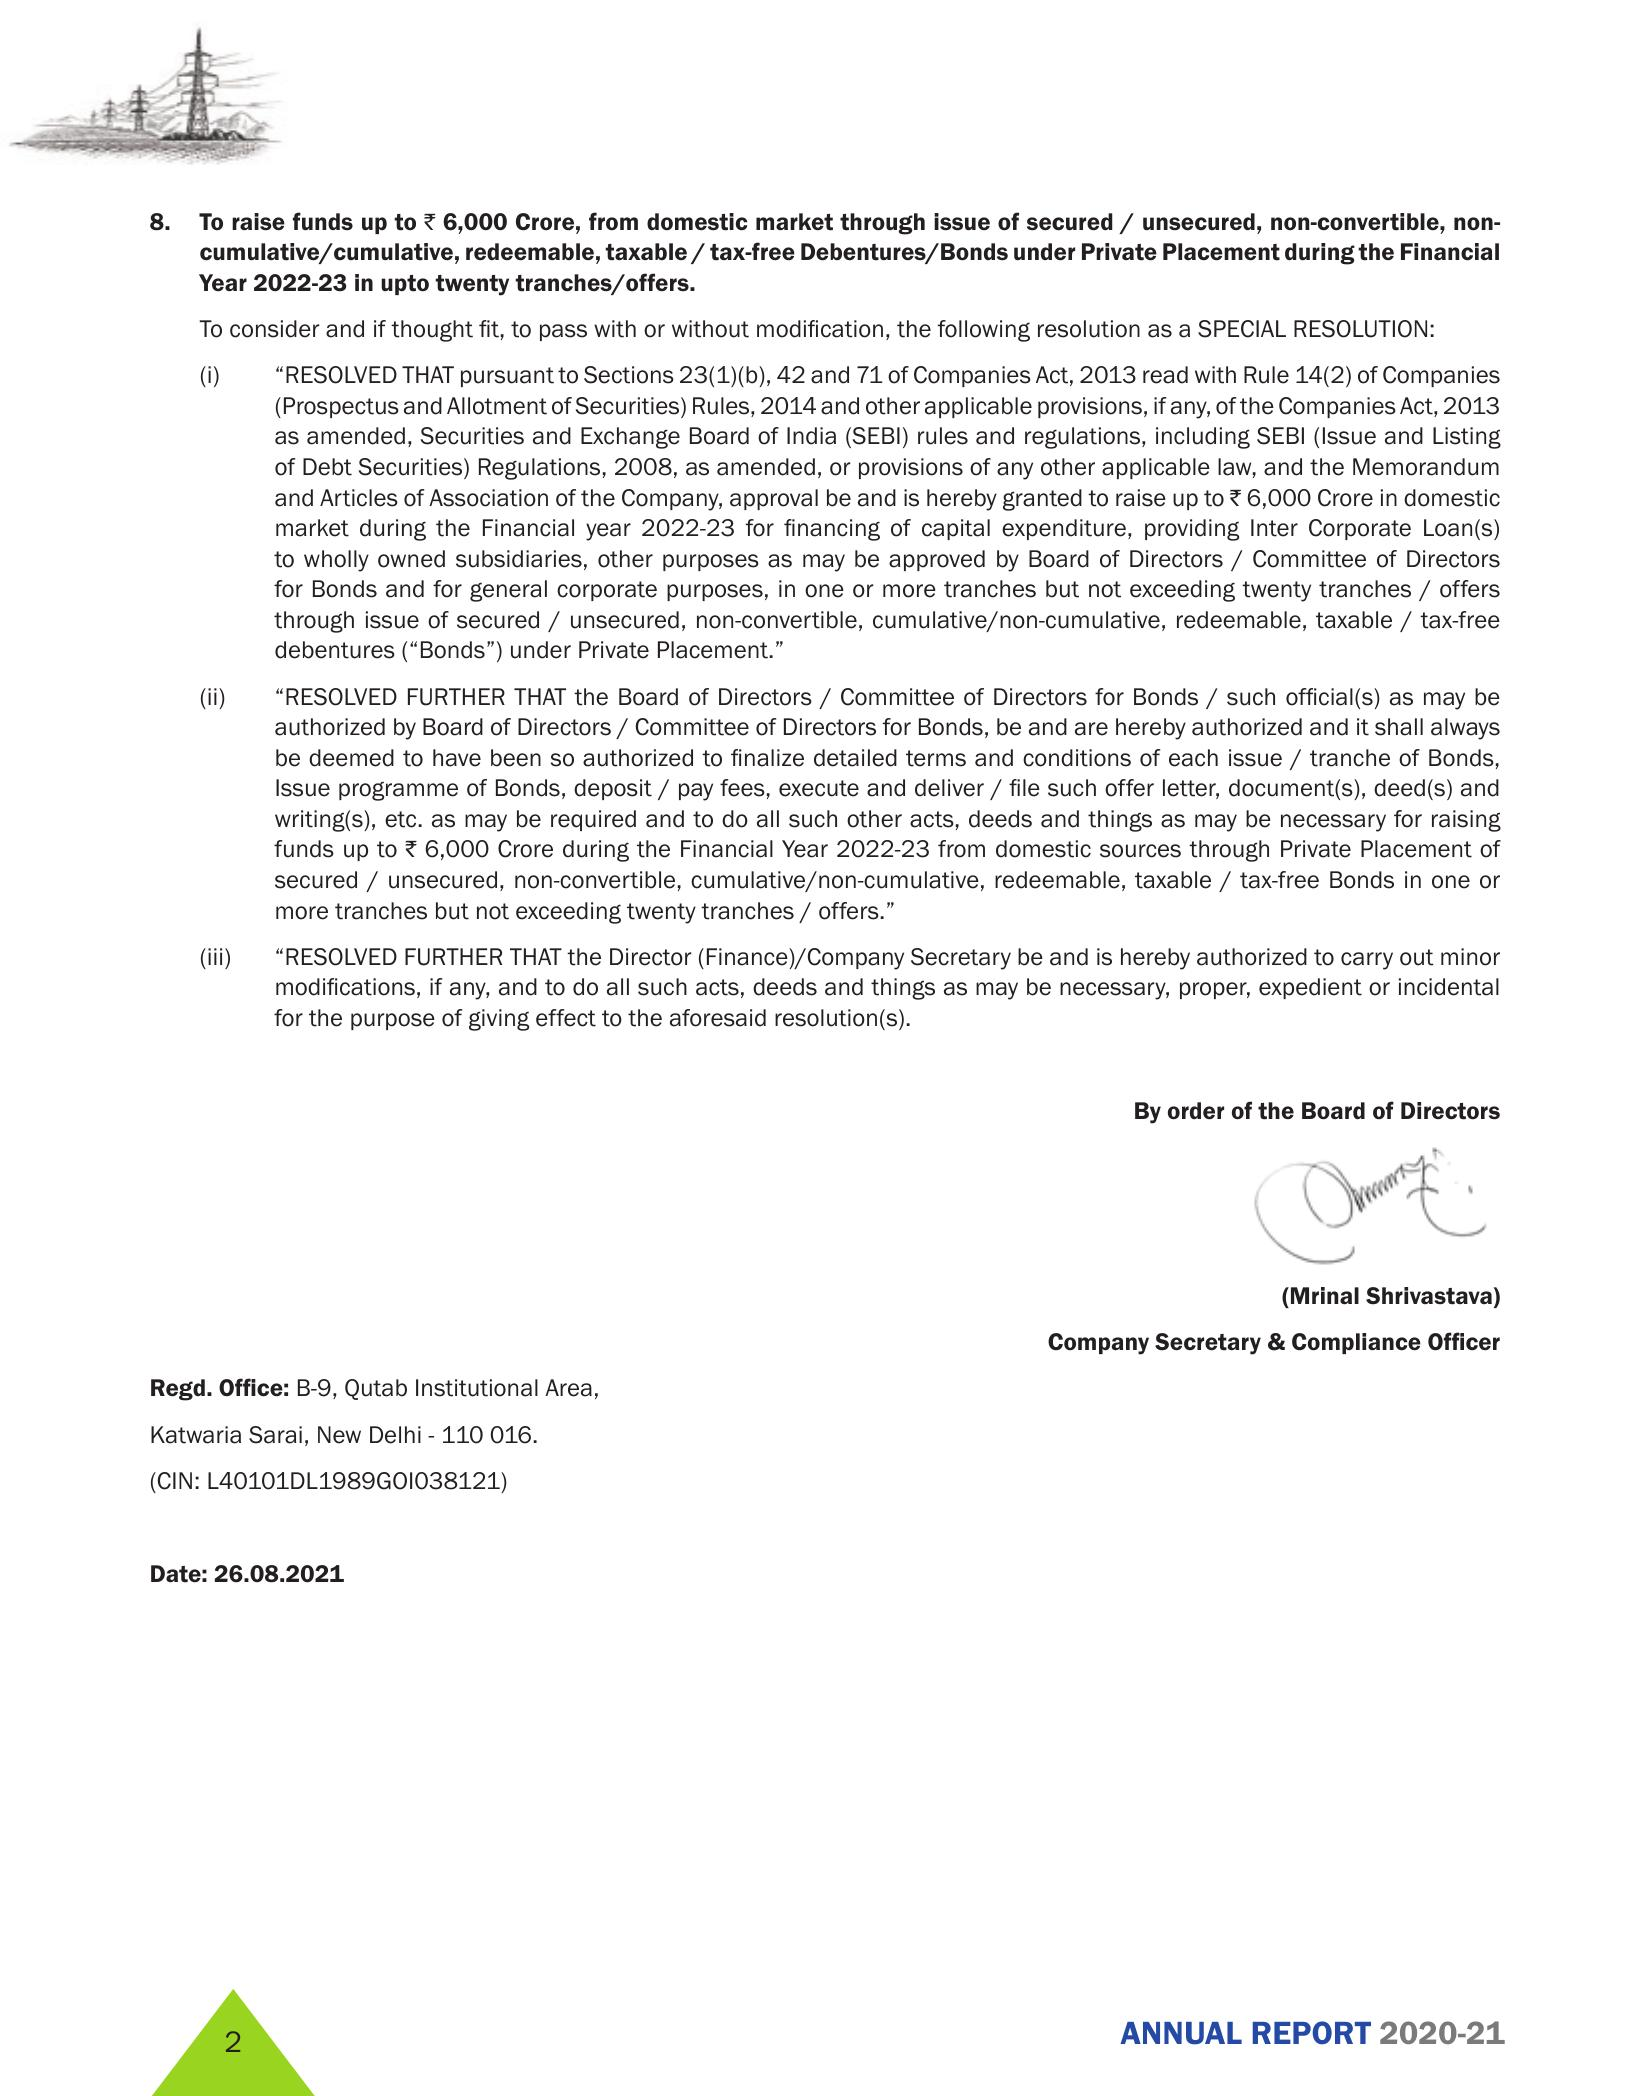Footer: (0, 1979, 1647, 2096)
Header: (0, 0, 1650, 172)
